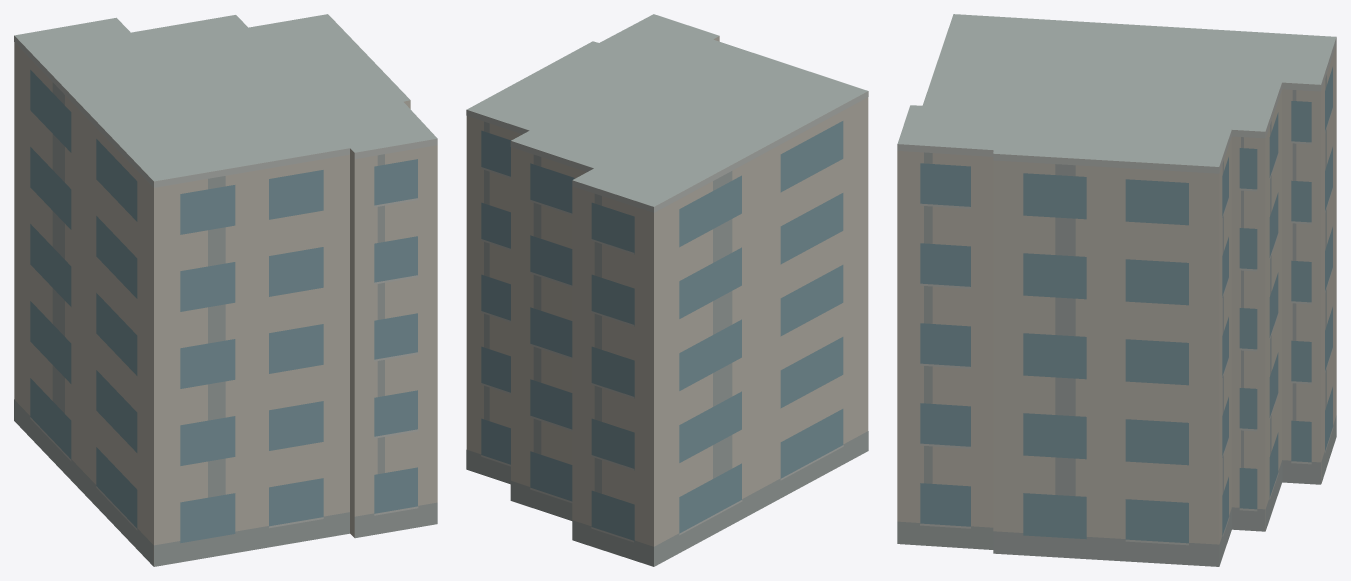
Rendered from survey-upis-32965570.glb.
3 renders of one model, left to right at view 1: azimuth 30°, elevation 25°; view 2: azimuth 150°, elevation 25°; view 3: azimuth 270°, elevation 25°, orthographic. The views are drawn at different scales.
Parts seen in each view (by area): view 1: survey-upis-32965570.tmp; view 2: survey-upis-32965570.tmp; view 3: survey-upis-32965570.tmp.
Part boxes in pixels (x1=…): survey-upis-32965570.tmp: x1=14, y1=14, x2=437, y2=566; survey-upis-32965570.tmp: x1=466, y1=14, x2=868, y2=566; survey-upis-32965570.tmp: x1=897, y1=14, x2=1336, y2=566.
Size of the model in its own units: 11.91 by 14.5 by 14.44.
